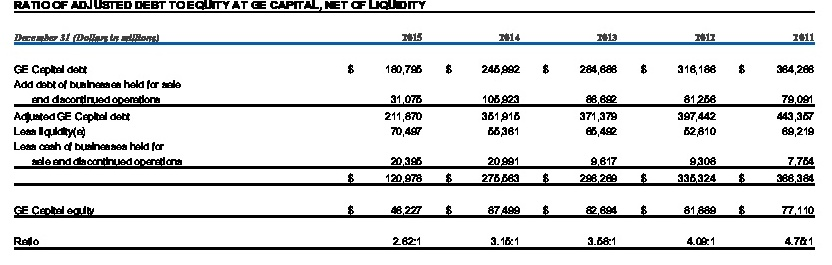table: (0, 0, 832, 265)
